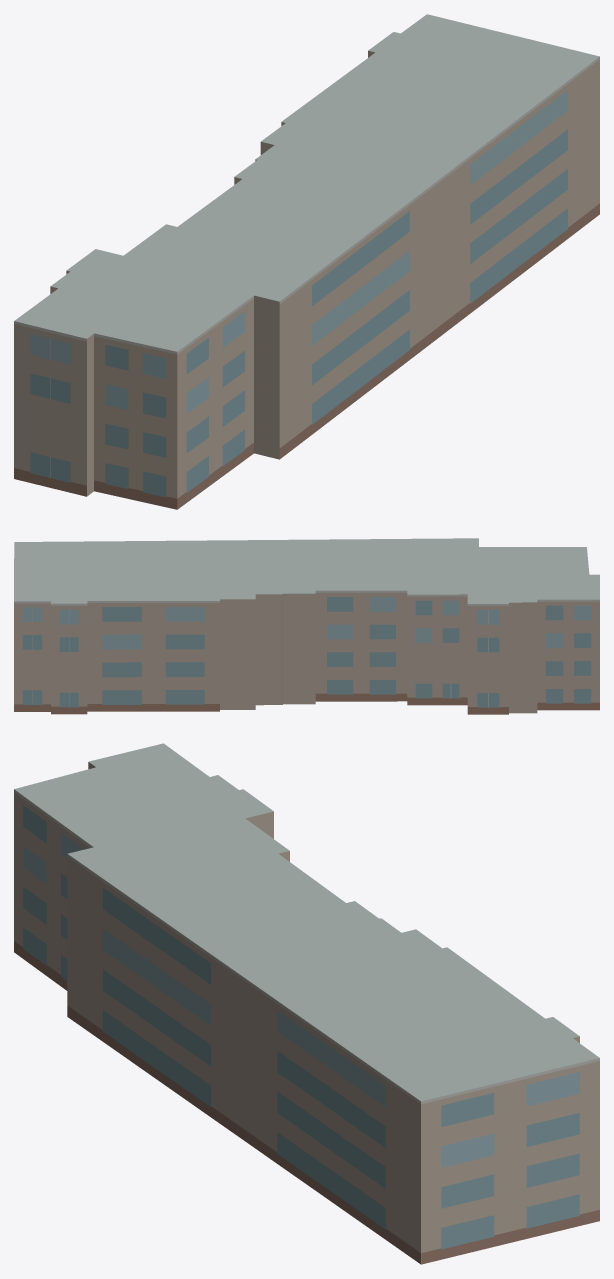
Rendered from survey-upis-32832856.glb.
3 views of the same model, one above another, from view 1: azimuth 30°, elevation 25°; view 2: azimuth 150°, elevation 25°; view 3: azimuth 270°, elevation 25° (orthographic). The views are drawn at different scales.
Visible parts, largest first — view 1: survey-upis-32832856.tmp; view 2: survey-upis-32832856.tmp; view 3: survey-upis-32832856.tmp.
Part boxes in pixels (box(x1,y1,x2,y2)): survey-upis-32832856.tmp: box(14, 14, 599, 509); survey-upis-32832856.tmp: box(14, 538, 599, 714); survey-upis-32832856.tmp: box(14, 743, 599, 1264).
Bounding box in the file's own units: 64.05 × 13.6 × 44.28.
